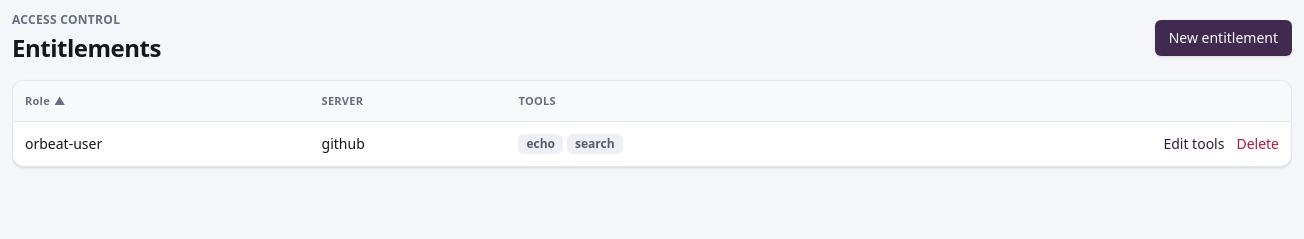
it: Cancel clears a stale 412 error, not just the draft
The width and height of the screenshot is (1304, 239).
Check: the text "github" is shown, box top-left (310, 121), bottom-right (506, 166)
Click the button "Edit tools" at (1194, 144), box top-left (1163, 134), bottom-right (1224, 154)
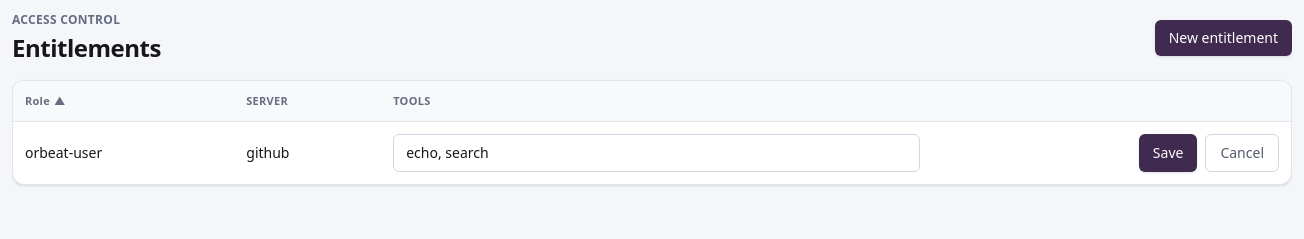
Click the button "Save" at (1168, 153), box top-left (1139, 134), bottom-right (1197, 172)
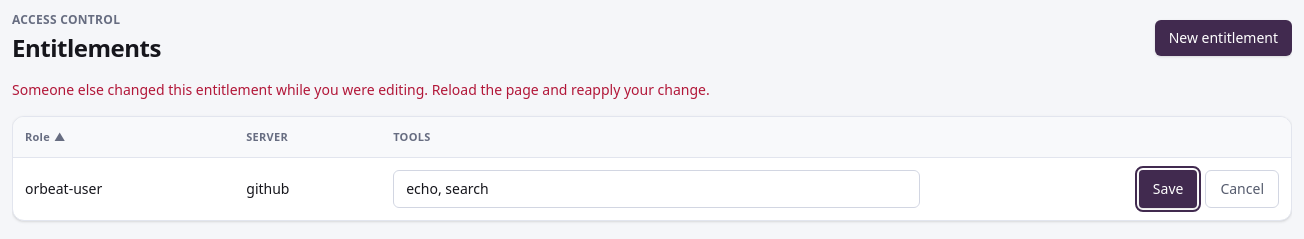
Check: the text "Someone else changed this entitlement" is shown, box top-left (12, 80), bottom-right (710, 99)
Click the button "Cancel" at (1242, 189), box top-left (1205, 170), bottom-right (1279, 208)
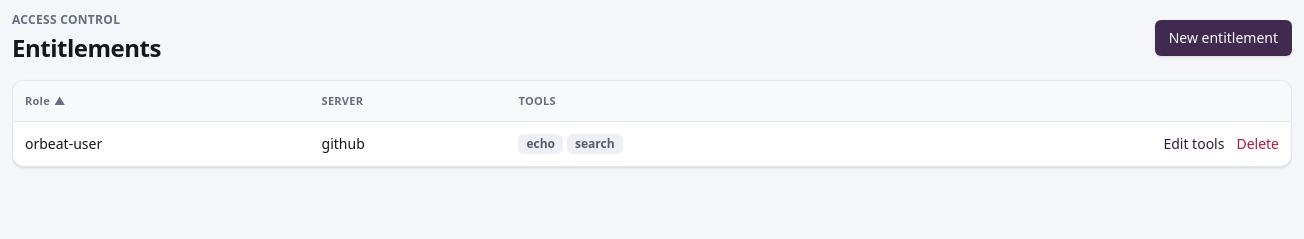
Check: the text "Someone else changed this entitlement" is gone
